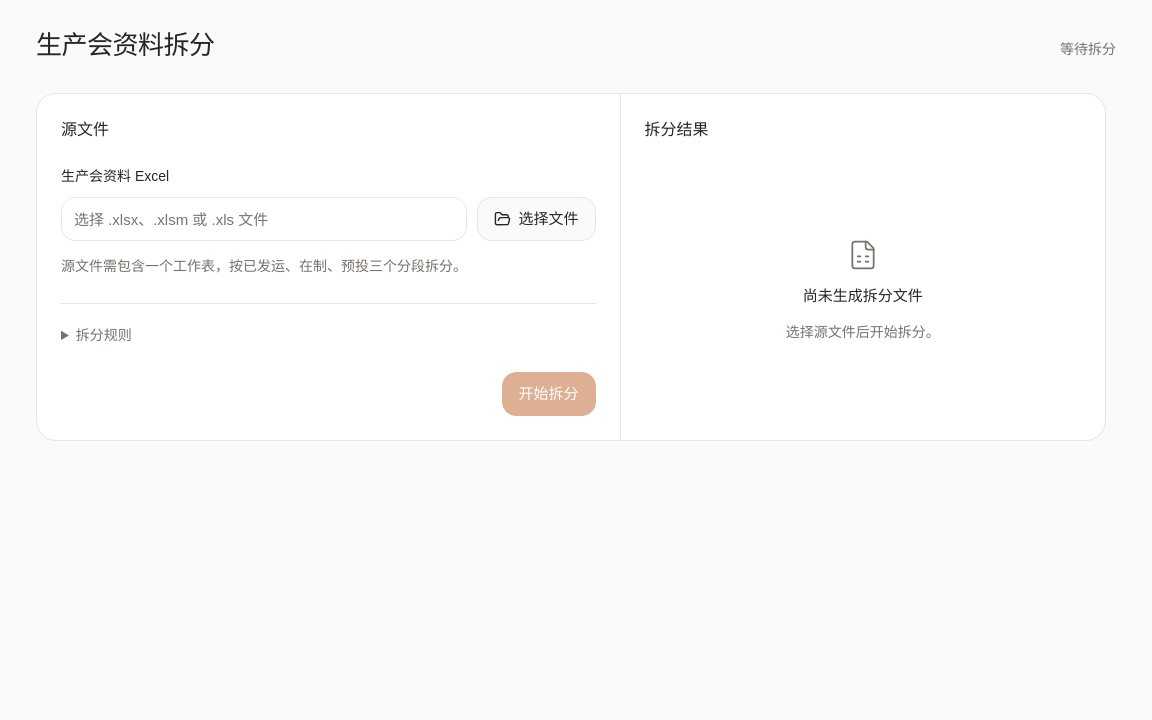
it: removes a previous result on failed rerun and lets the user explicitly retry
Click the button "选择文件". click: (536, 219)
box: [476, 197, 596, 241]
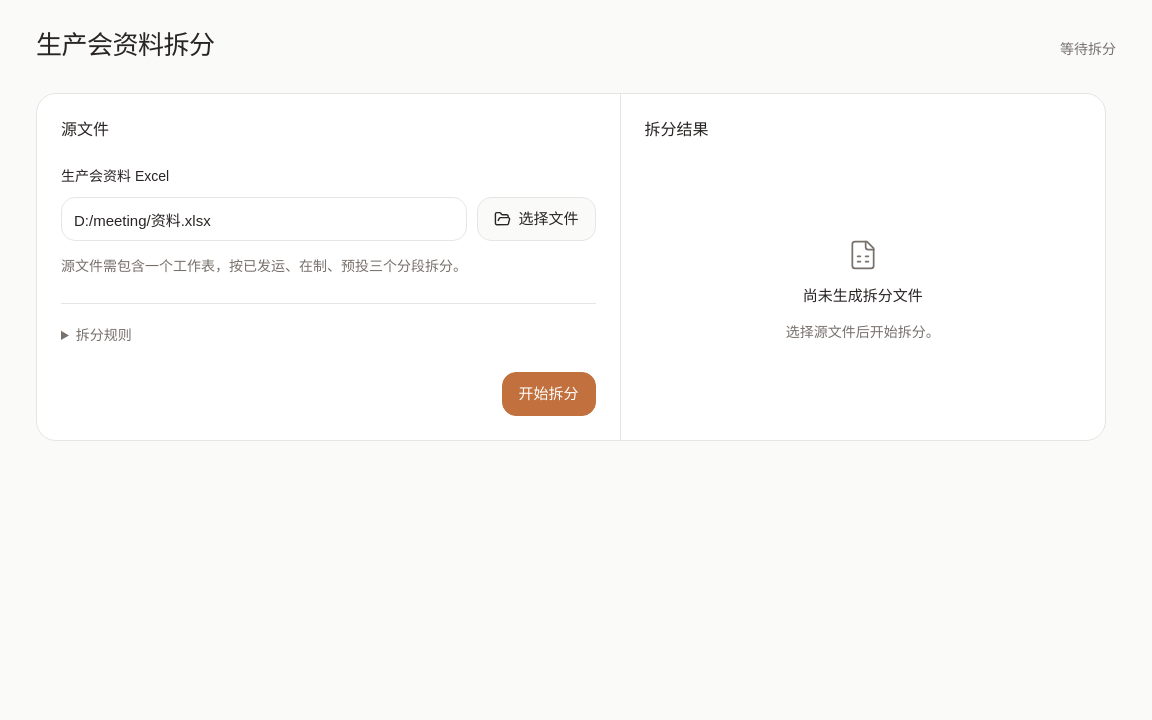
Click the button "开始拆分". click: (548, 394)
box: [502, 372, 596, 416]
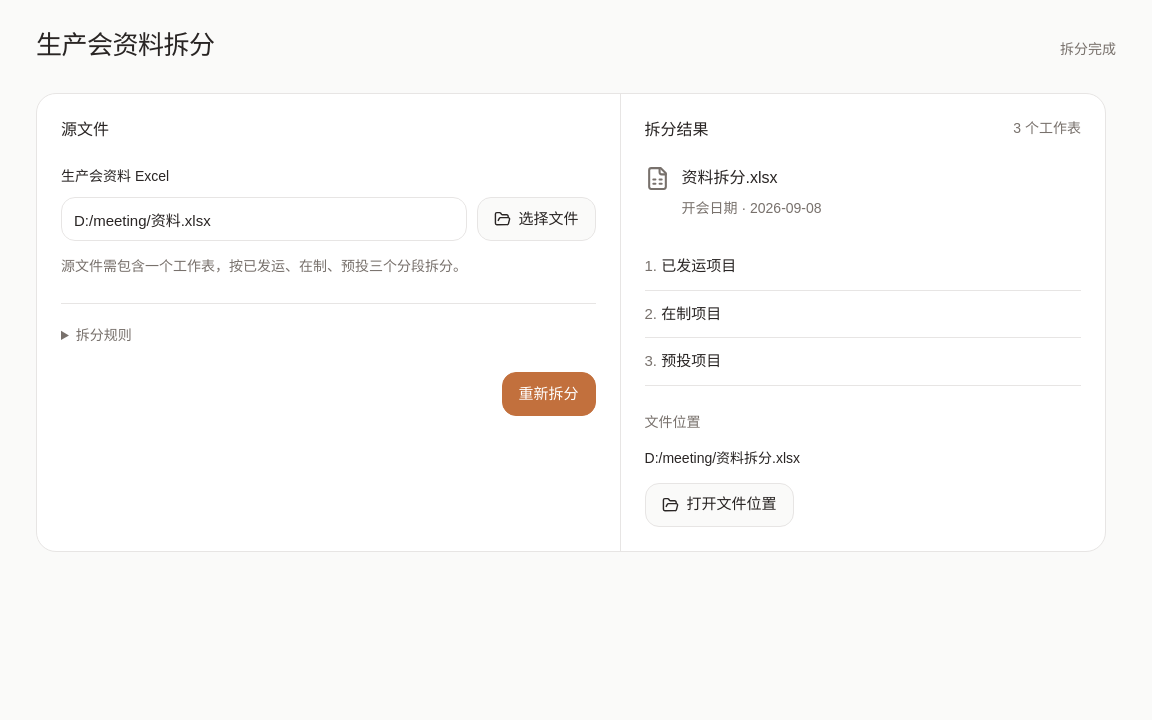
Click the button "重新拆分". click: (548, 394)
box: [502, 372, 596, 416]
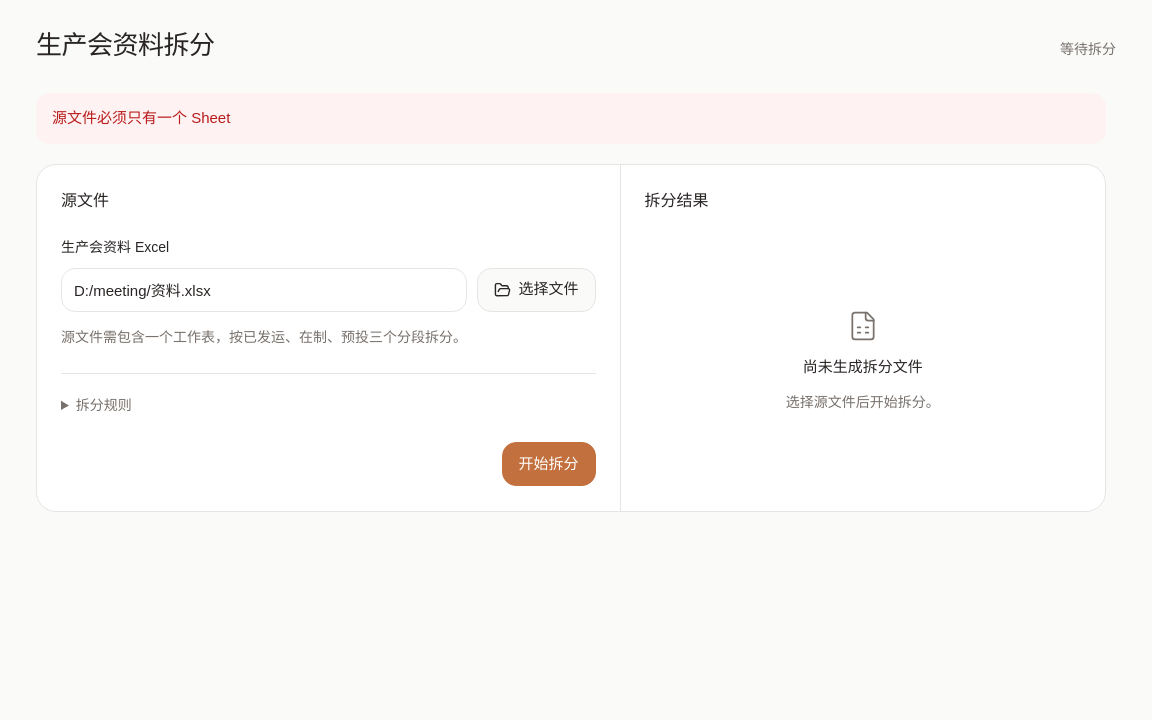
Result: the button "开始拆分" is enabled at [502, 442, 596, 486]
Result: the message "源文件必须只有一个 Sheet" is shown at [36, 93, 1106, 144]
Result: the text "D:/meeting/资料拆分.xlsx" is gone
